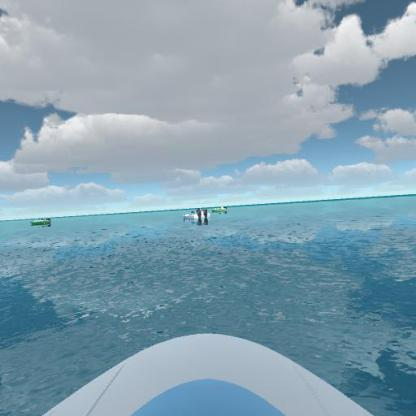usv0: (27, 214, 54, 227), (212, 203, 228, 217)
usv1: (180, 209, 211, 224)
